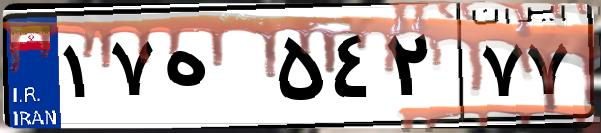1: (57, 26, 110, 100)
2: (385, 28, 445, 110)
4: (330, 28, 385, 110)
5: (270, 28, 330, 110)
7: (475, 38, 525, 113), (525, 38, 570, 115), (110, 28, 158, 98)
ه: (158, 20, 270, 120)
